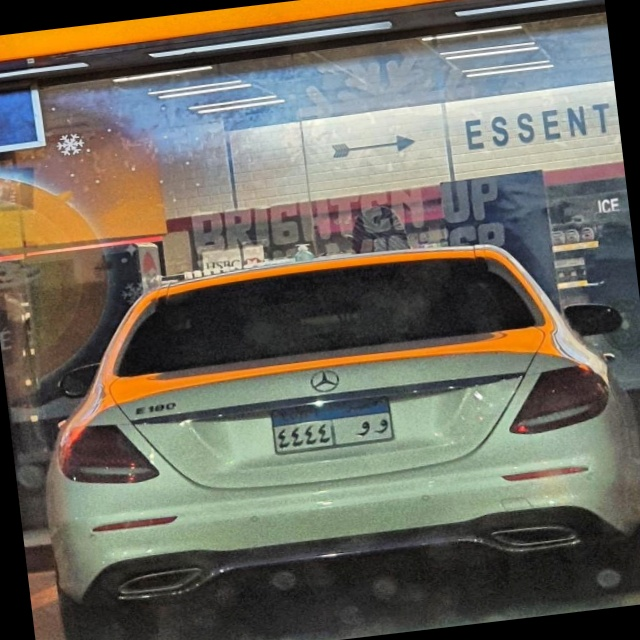License Plate: (269, 396, 397, 457)
